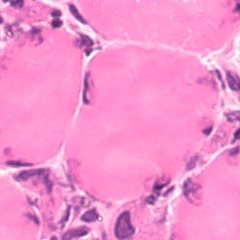New: (105, 191, 175, 240)
